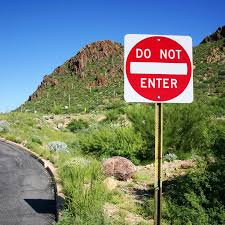doNotEnter: (122, 31, 194, 106)
